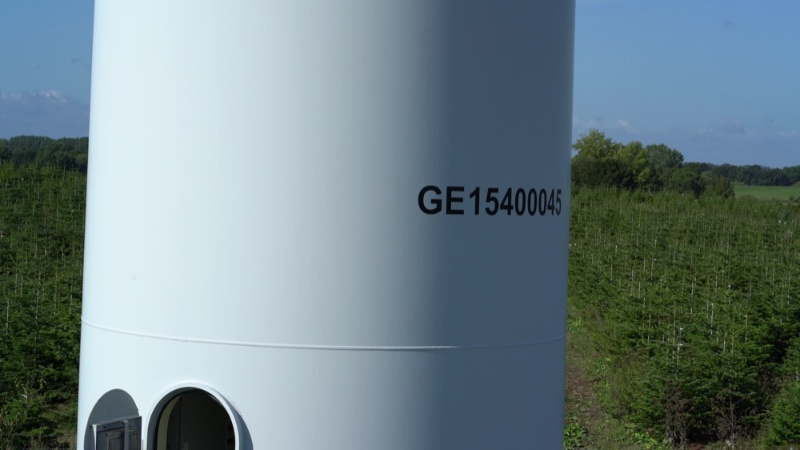weldseam: (78, 315, 570, 354)
